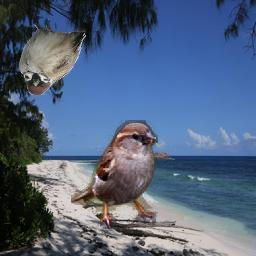Sparrow: (72, 121, 159, 230), (20, 15, 87, 95)
